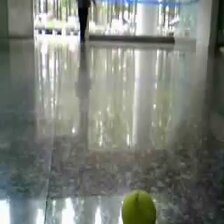tennis: (121, 191, 157, 224)
